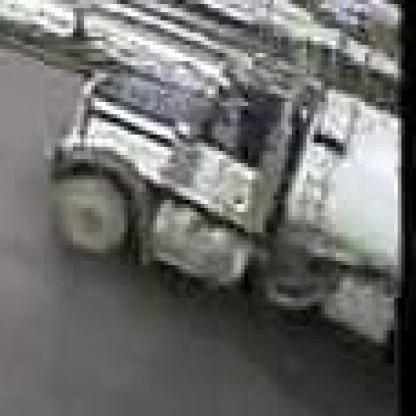truck: (63, 79, 413, 332)
